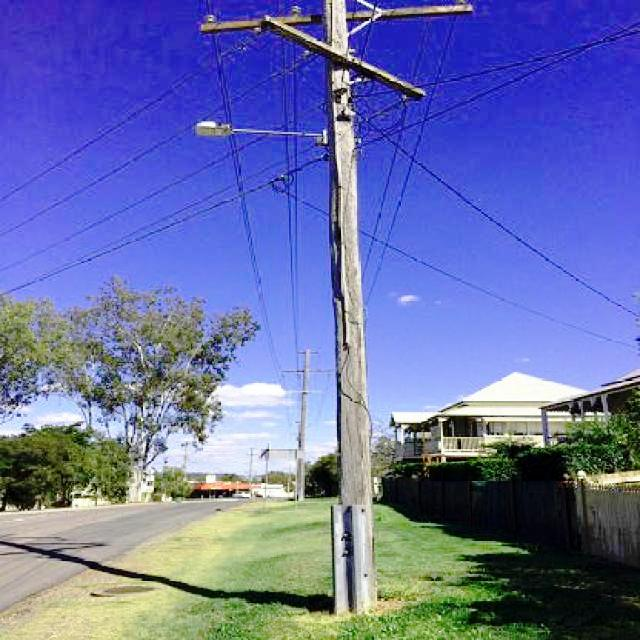poles: (240, 0, 475, 609)
wires: (9, 42, 306, 294)
